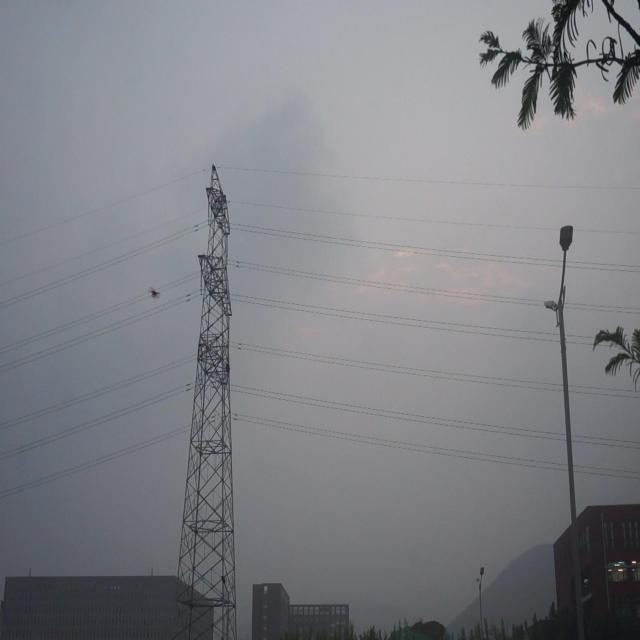UAV: (148, 286, 160, 300)
